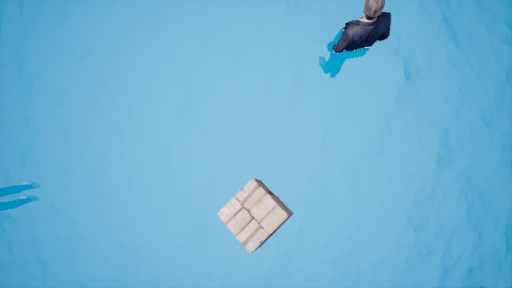person: (322, 1, 392, 89)
